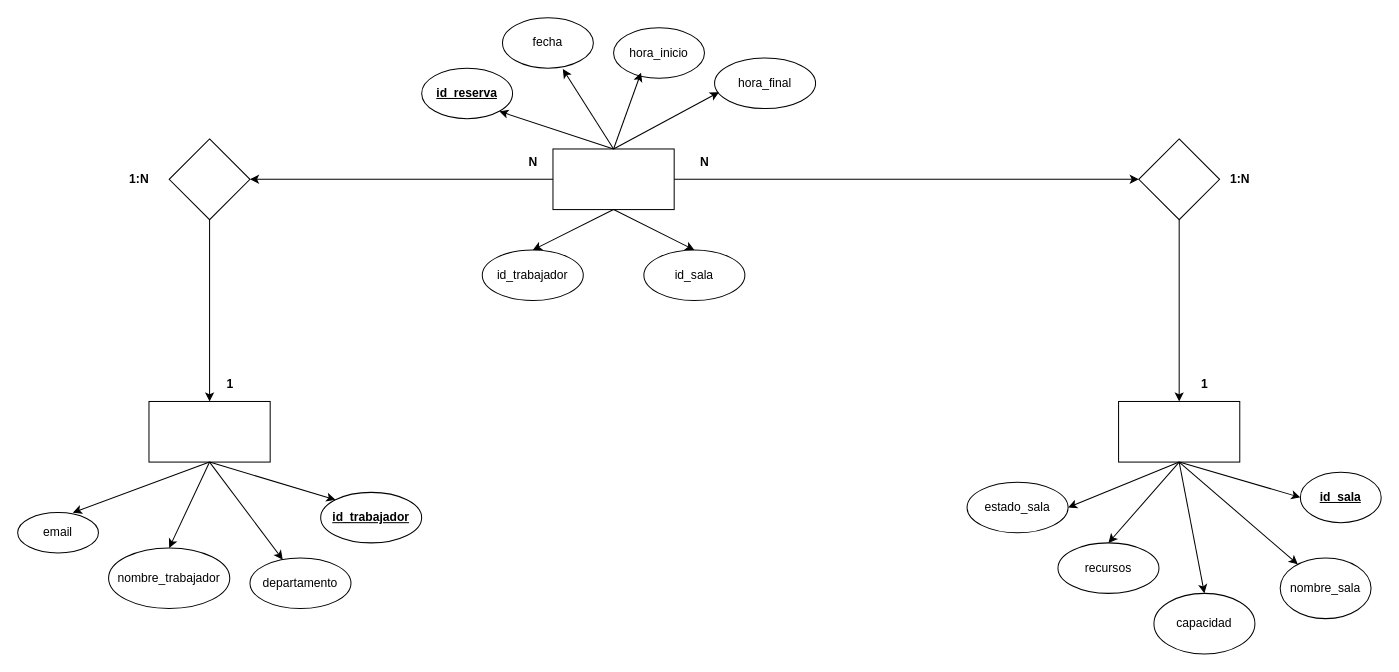
Image size: 1399x672. Some labels were removed from this diagram. Here are the shapes that lost their labels. From the top down, the box of each, then its label:
(552, 148, 674, 210): RESERVA
(148, 400, 270, 462): TRABAJADOR
(1118, 400, 1240, 462): SALA
